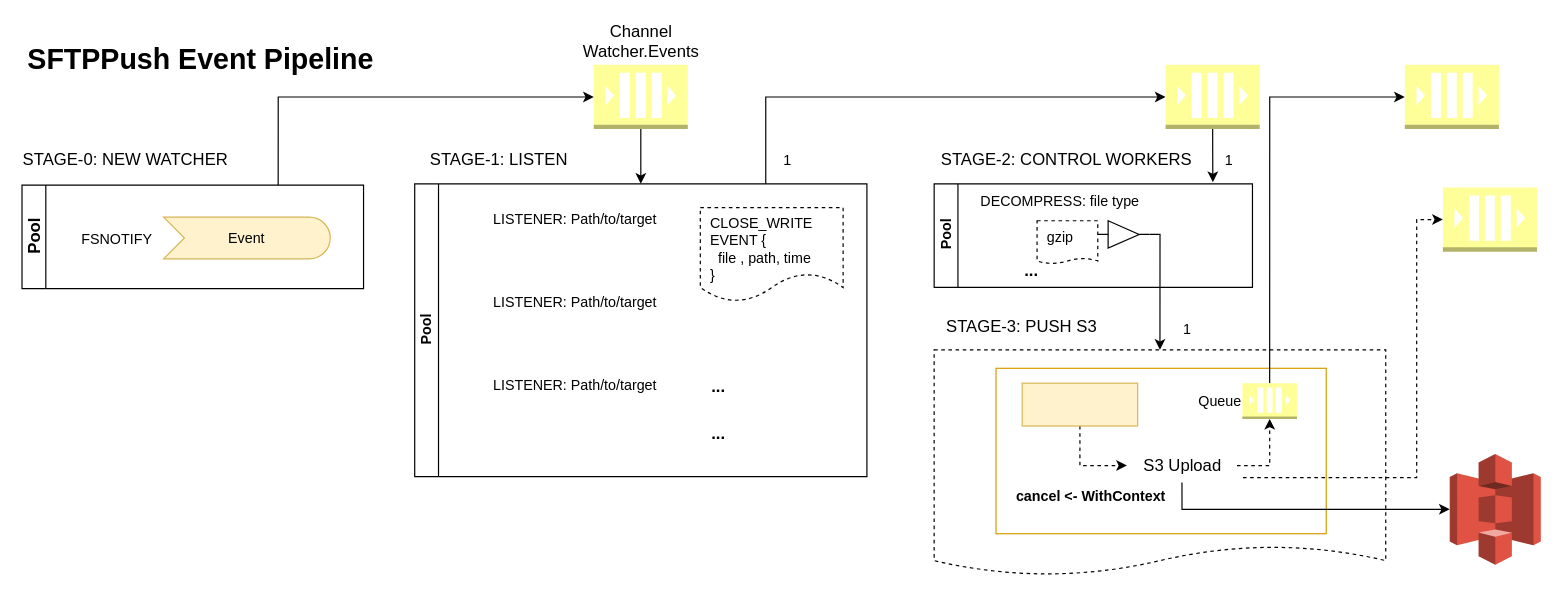
This 1561x596 diagram has some shape labels left out. The shapes that lost their labels are listed below. From the top down, each one's box as (x1, y1, x2, y2) in pixels, then its label:
(1164, 64, 1260, 129): Channel Listener.EventInfo
(1404, 64, 1499, 129): Channel EventPushInfo.Results
(1442, 186, 1537, 252): Channel Errors
(1021, 382, 1138, 426): WaitGroup
